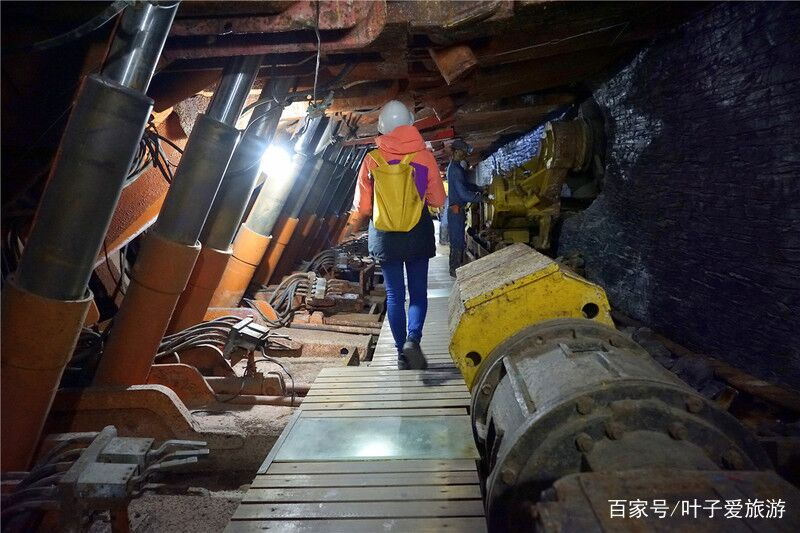device: (352, 98, 446, 371), (445, 138, 489, 275)
